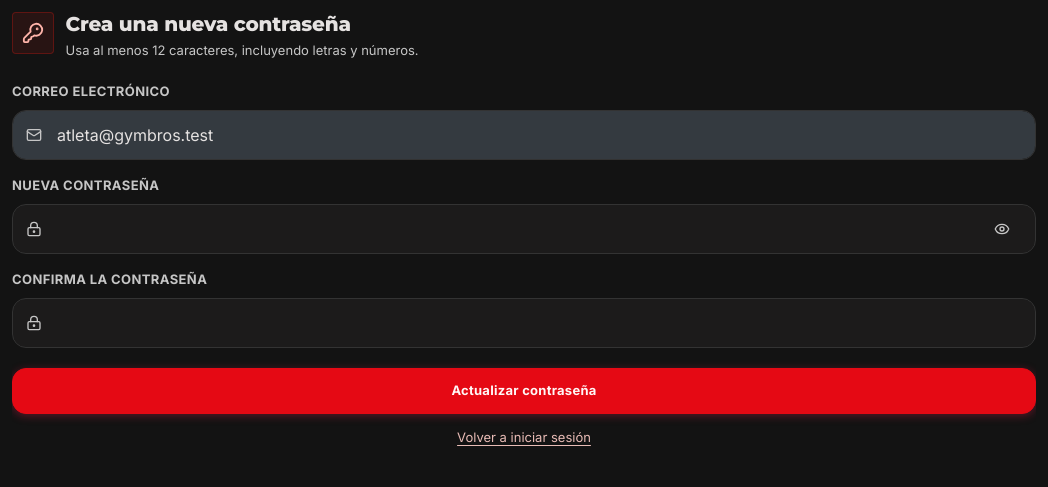
ResetPasswordView › valida mínimo, letras y números antes de enviar
Type "abcdefghijkl" into the password field with id "restablecer-password" at coordinates (524, 229), box [12,204,1036,254]
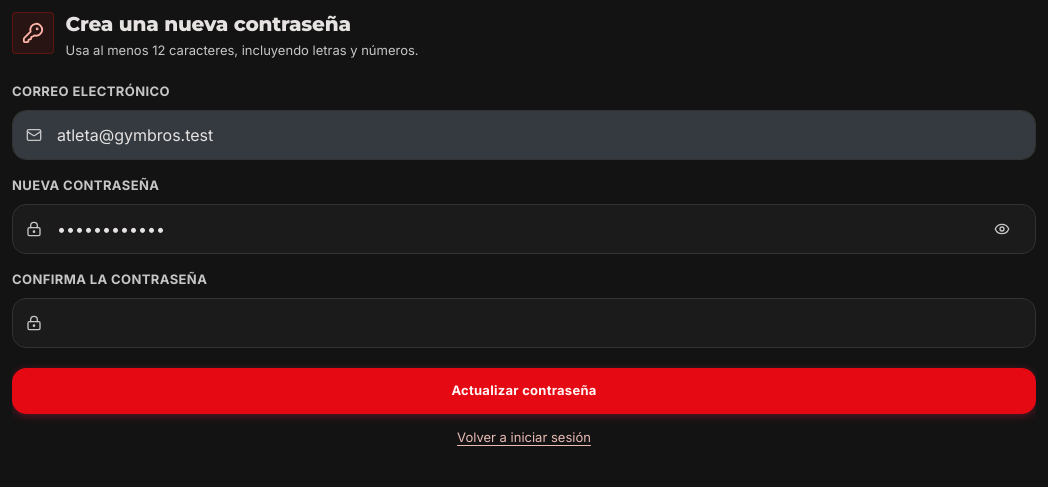
Type "abcdefghijkl" into the password field with id "restablecer-confirmacion" at coordinates (524, 323), box [12,298,1036,348]
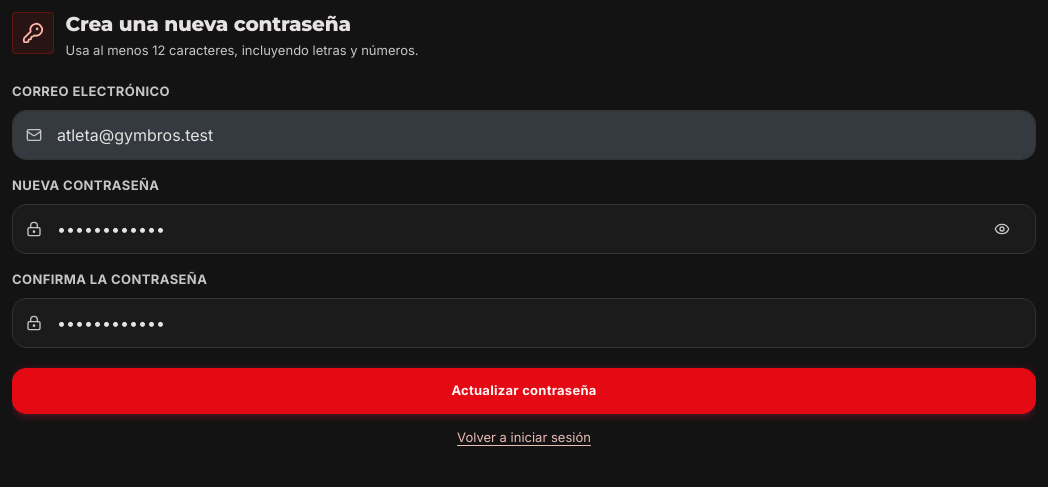
Submit the form
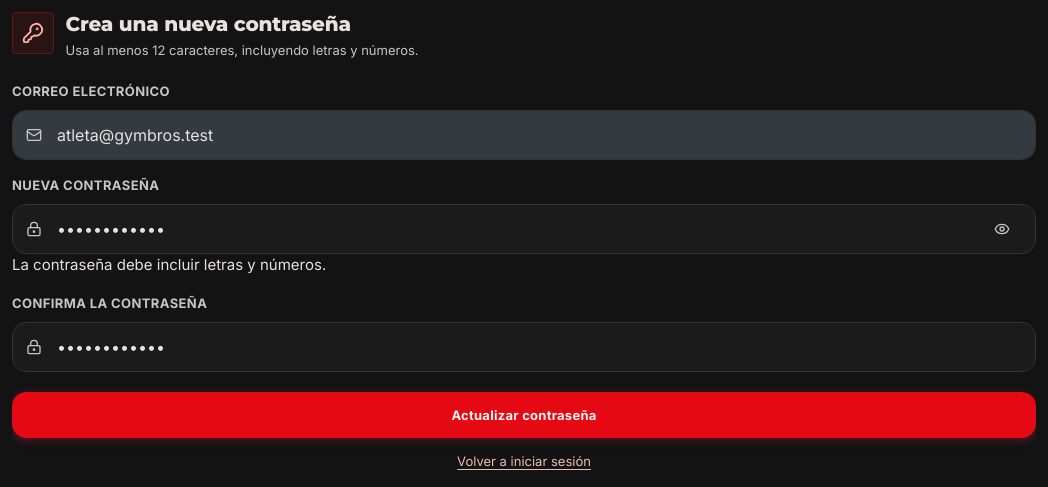
Result: the text "debe incluir letras y números" is shown at [12,255,326,274]
